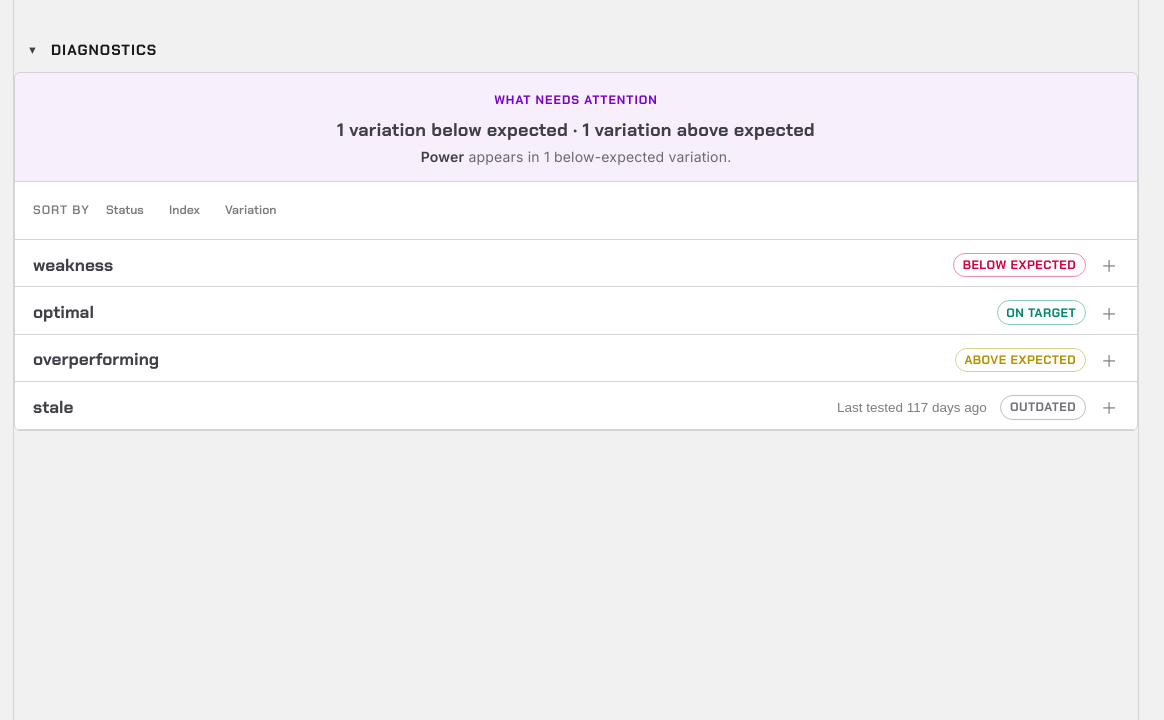
it: DiagnosticsPanel › announces the active sort criterion and direction
Click the button with aria-label "weakness: Below expected. Expand diagnostic".
click(73, 265)  # box [15, 240, 1137, 286]
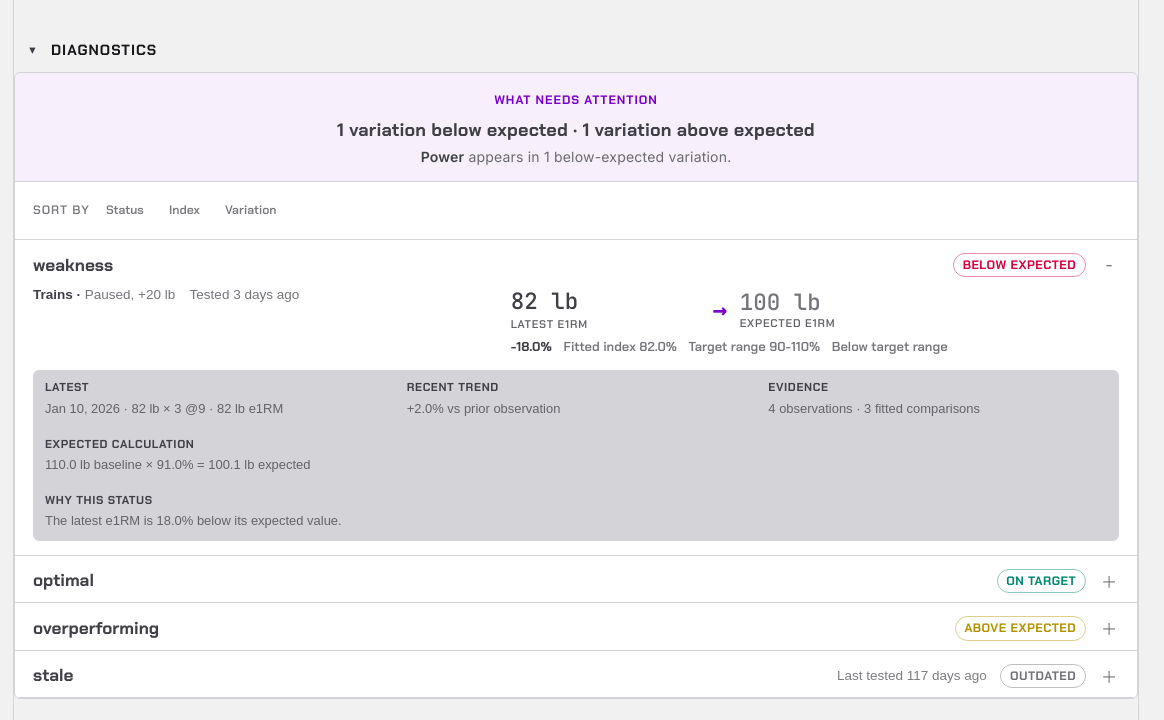
Click the button with aria-label "Sort by Status".
click(125, 210)  # box [97, 192, 153, 229]
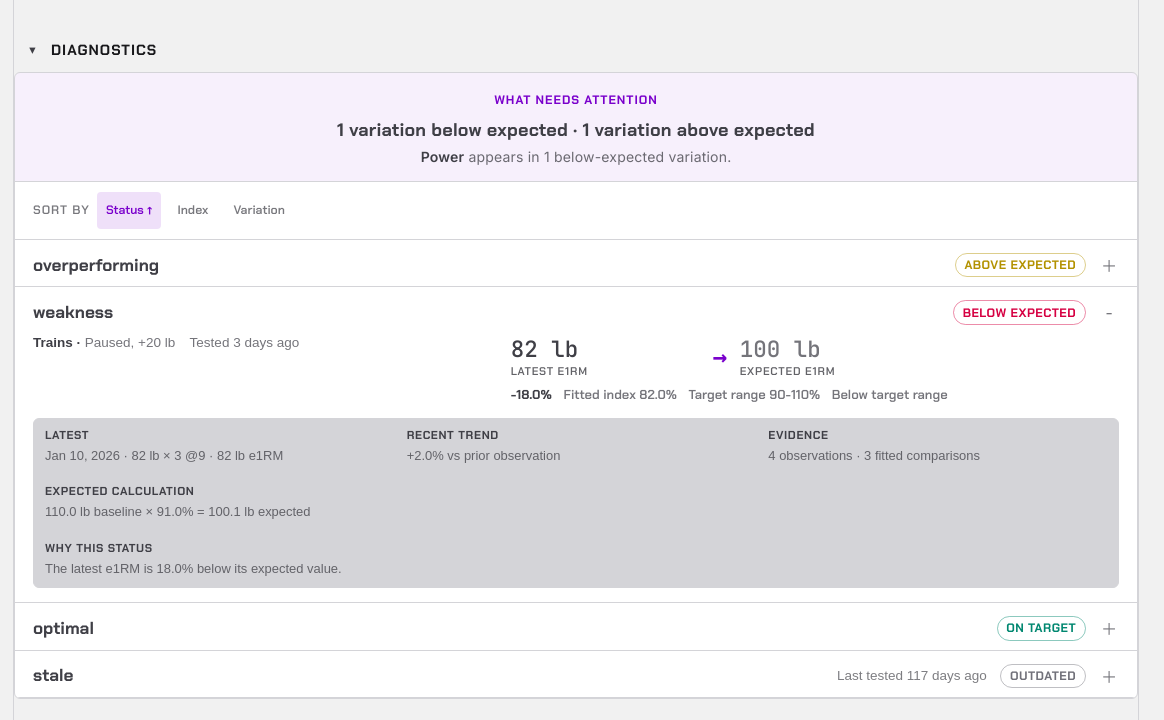
Check: the button with aria-label "Status, sorted ascending" is pressed
Click the button with aria-label "Status, sorted ascending".
click(129, 210)  # box [97, 192, 161, 229]
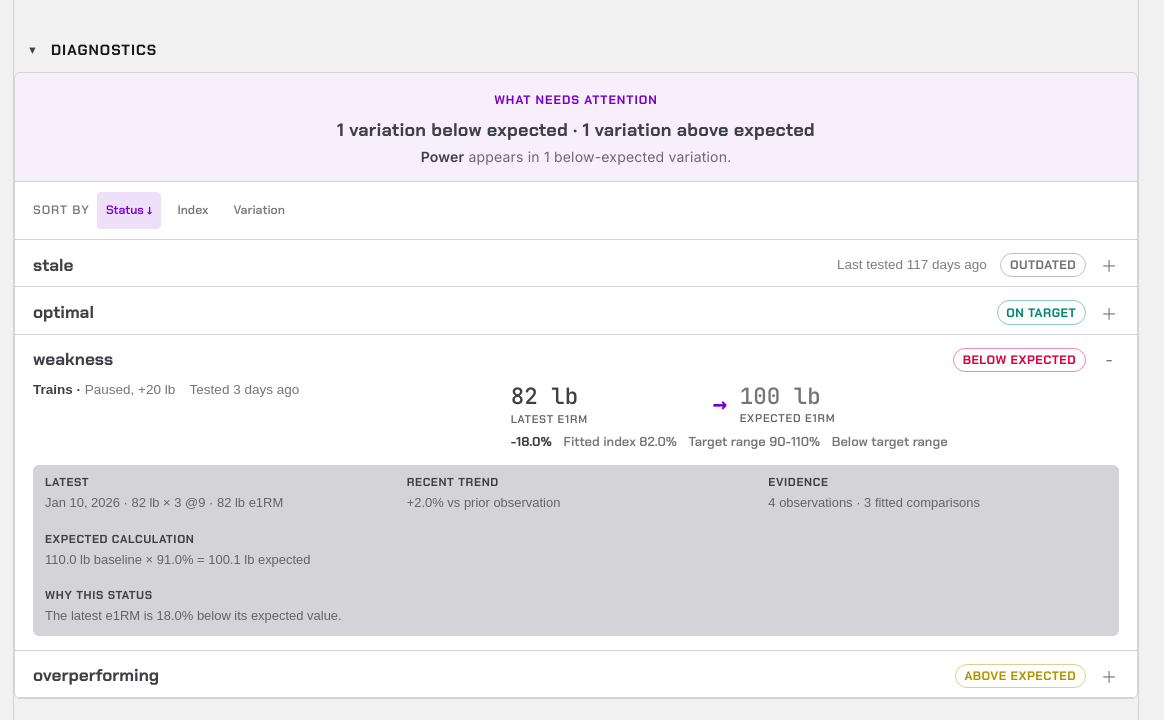
Check: the button with id "diagnostic-weakness-details" is shown, box [15, 381, 1137, 650]
Check: the button with aria-label "Status, sorted descending" is shown, box [97, 192, 161, 229]
